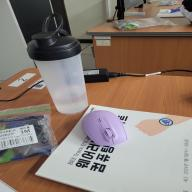mouse: (80, 109, 130, 147)
